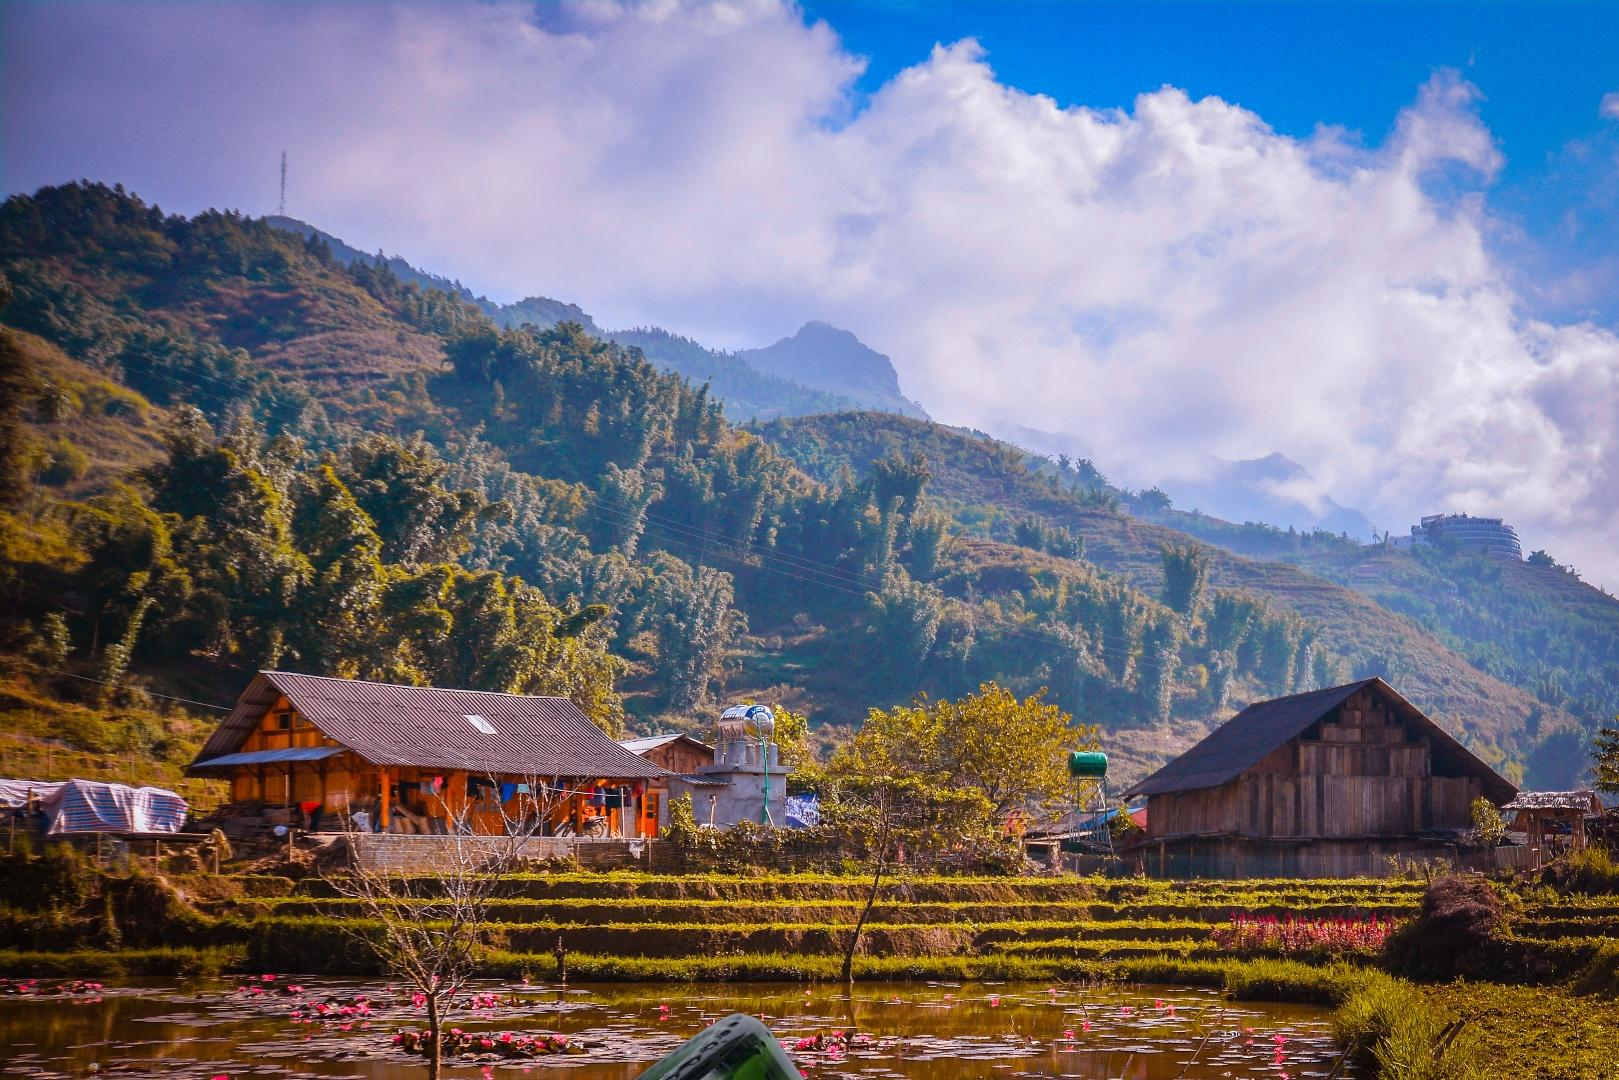glass: (508, 1009, 869, 1080)
